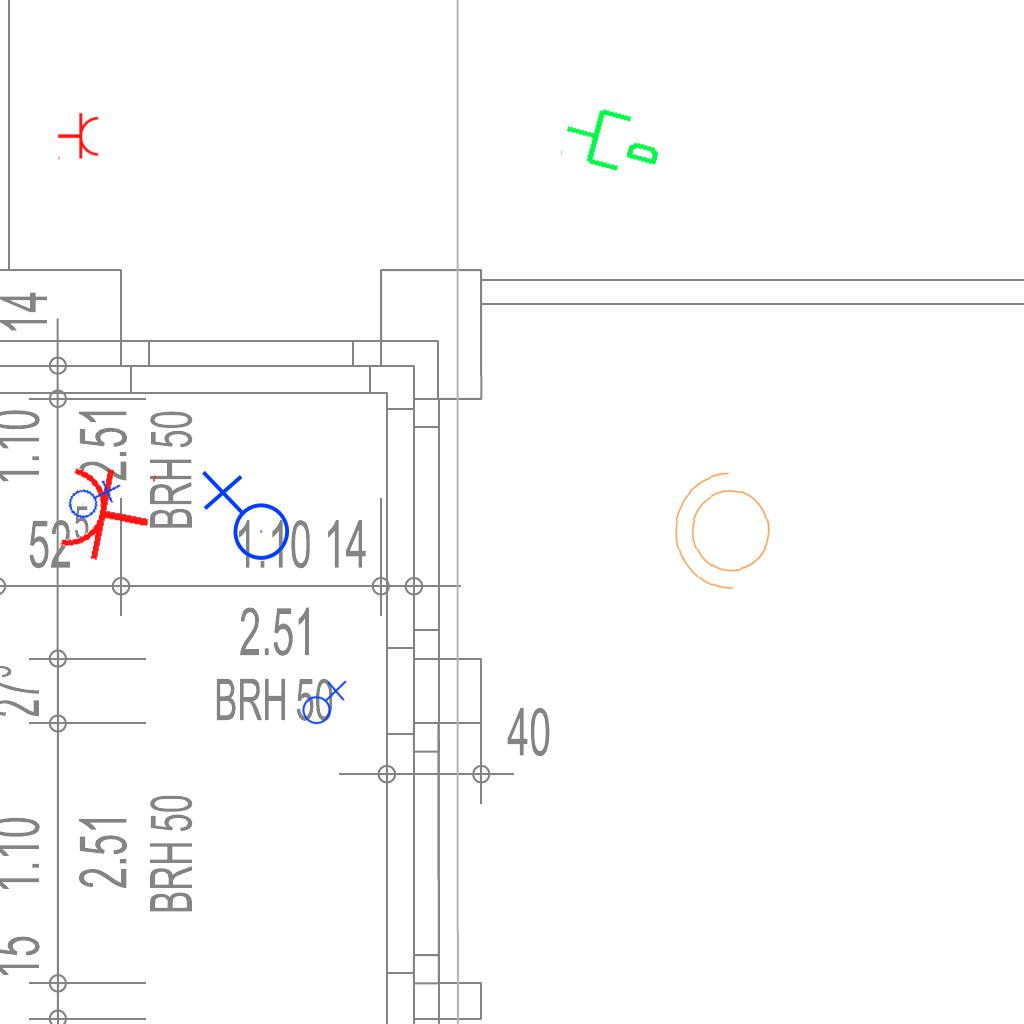Datenanschluss_einfach: (556, 92, 671, 186)
Elektroanschluss_allgemein_230V_Geraeteanschlussdose_230V: (197, 470, 291, 569), (60, 467, 123, 528), (298, 678, 347, 725)
Scheinwerfer_fuer_Alarmbeleuchtung: (667, 466, 785, 602)
Schukosteckdose_einfach: (55, 455, 160, 571), (57, 112, 100, 162)
